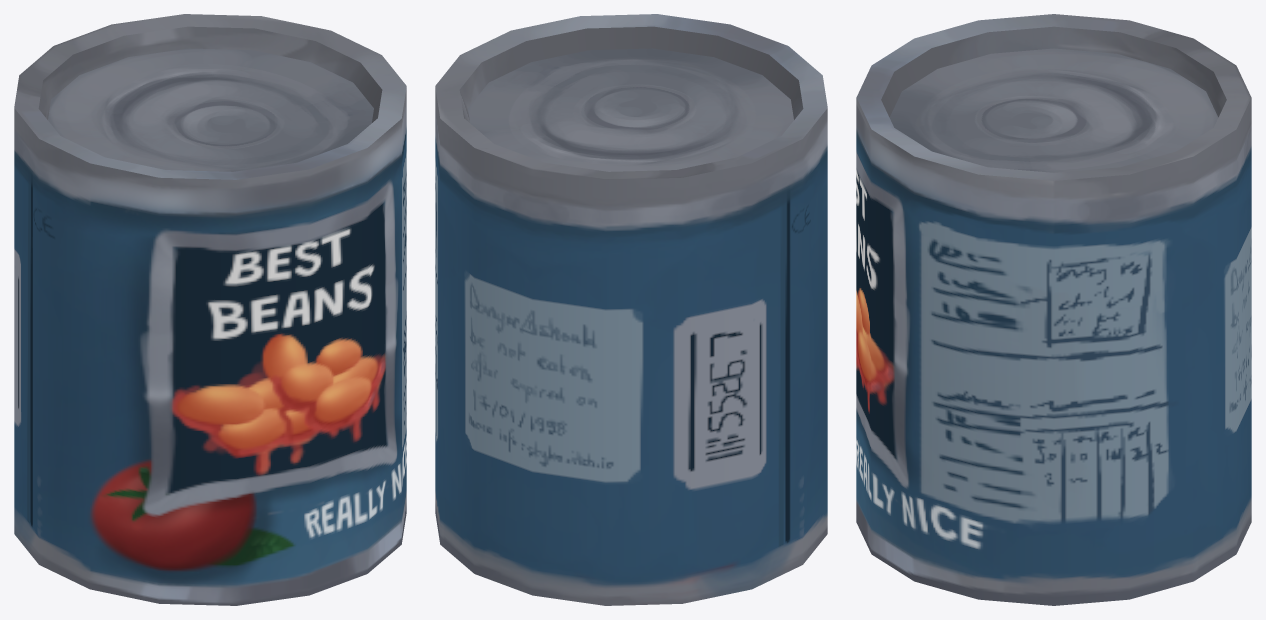
The model's file is BeansCann2.glb.
3 renders of one model, left to right at view 1: azimuth 30°, elevation 25°; view 2: azimuth 150°, elevation 25°; view 3: azimuth 270°, elevation 25°, orthographic.
Parts seen in each view (by area): view 1: Object_5; view 2: Object_5; view 3: Object_5.
Boxes of the visible parts, left/top/right/bottom form: Object_5: left=14, top=14, right=406, bottom=605; Object_5: left=435, top=14, right=827, bottom=605; Object_5: left=856, top=14, right=1251, bottom=605.
Bounding box in the file's own units: 0.1472 × 0.1748 × 0.1472.
Materials: 1 (1 with a texture image).
